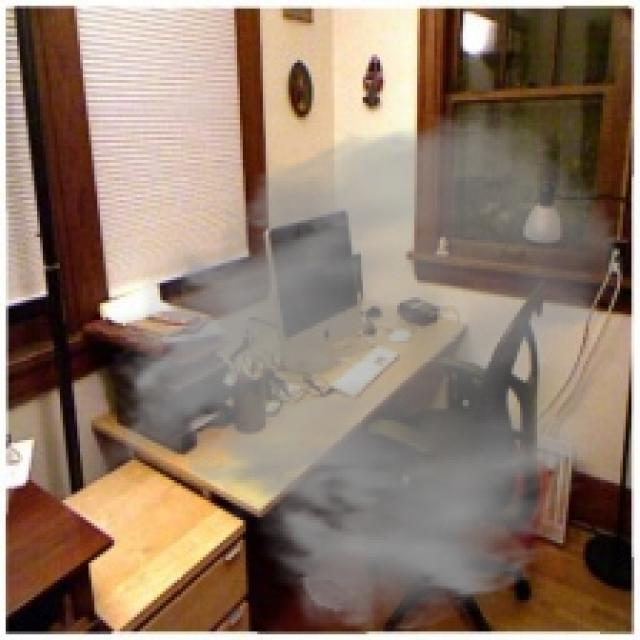Smoke: (94, 105, 629, 638)
